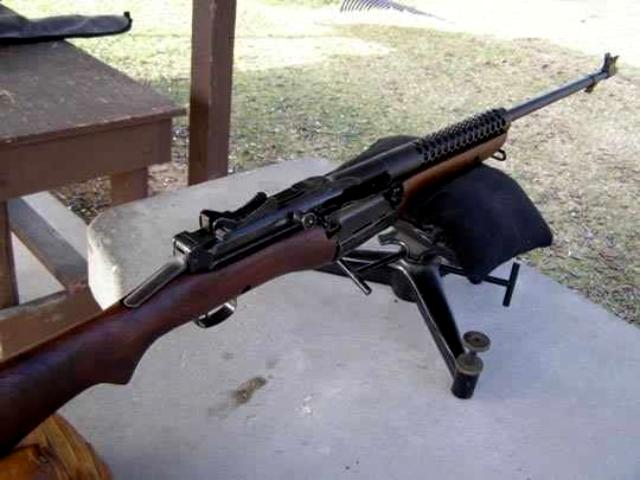rifle: (1, 26, 630, 468)
